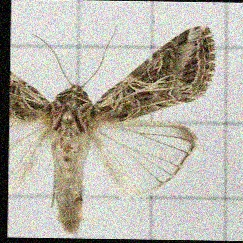Spodoptera litura: (9, 23, 216, 234)
